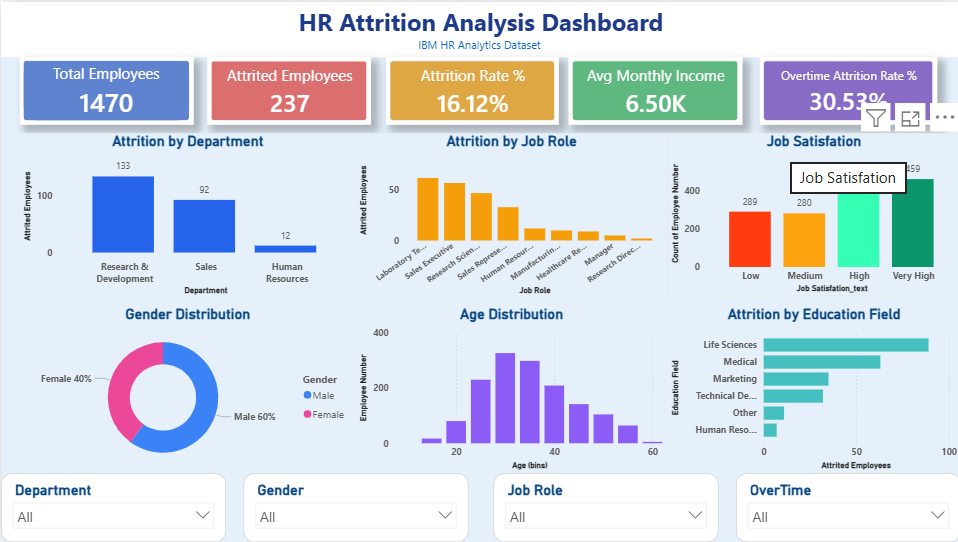

This screenshot's page, from the dashboard's own definition file:
{"tool":"powerbi","page":{"name":"HR_Attrition_Dashboard","canvas":[1280,720],"ordinal":0},"visuals":[{"type":"textbox","box":[0,0,1280,73.3],"z":0},{"type":"cardVisual","fields":{"Data":["HR-Employee-Attrition.Total Employees"]},"box":[25,73.3,231.7,90],"z":1000},{"type":"cardVisual","fields":{"Data":["HR-Employee-Attrition.Attrited Employees"]},"box":[275,73.3,218.3,90],"z":2000},{"type":"cardVisual","fields":{"Data":["HR-Employee-Attrition.Attrition Rate %"]},"box":[513.3,73.3,230,90],"z":3000},{"type":"cardVisual","fields":{"Data":["HR-Employee-Attrition.Avg Monthly Income"]},"box":[756.7,73.3,231.7,90],"z":4000},{"type":"cardVisual","fields":{"Data":["HR-Employee-Attrition.Overtime Attrition Rate %"]},"box":[1011.7,73.3,236.7,90],"z":5000},{"type":"columnChart","title":"Attrition by Department","fields":{"Category":["HR-Employee-Attrition.Department"],"Y":["HR-Employee-Attrition.Attrited Employees"]},"box":[25,175,448.3,220],"z":6000},{"type":"clusteredColumnChart","title":"Attrition by Job Role","fields":{"Category":["HR-Employee-Attrition.Job Role"],"Y":["HR-Employee-Attrition.Attrited Employees"]},"box":[473.3,175,415,220],"z":7000},{"type":"donutChart","title":"Gender Distribution","fields":{"Category":["HR-Employee-Attrition.Gender"],"Y":["CountNonNull(HR-Employee-Attrition.Employee Number)"]},"box":[25,405,448.3,223.3],"z":8000},{"type":"clusteredColumnChart","title":" Job Satisfation","fields":{"Y":["CountNonNull(HR-Employee-Attrition.Employee Number)"],"Category":["HR-Employee-Attrition.Job Satisfation_text"]},"box":[888.3,175,391.7,218.3],"z":9000},{"type":"clusteredColumnChart","title":"Age Distribution","fields":{"Category":["HR-Employee-Attrition.Age (bins)"],"Y":["CountNonNull(HR-Employee-Attrition.Employee Number)"]},"box":[473.3,405,415,223.3],"z":10000},{"type":"clusteredBarChart","title":"Attrition by Education Field","fields":{"Category":["HR-Employee-Attrition.Education Field"],"Y":["HR-Employee-Attrition.Attrited Employees"]},"box":[888.3,405,391.7,223.3],"z":11000},{"type":"slicer","fields":{"Values":["HR-Employee-Attrition.Department"]},"box":[0,628.3,300,91.7],"z":12000},{"type":"slicer","fields":{"Values":["HR-Employee-Attrition.Gender"]},"box":[323.3,628.3,300,91.7],"z":13000},{"type":"slicer","fields":{"Values":["HR-Employee-Attrition.Job Role"]},"box":[656.7,628.3,300,91.7],"z":14000},{"type":"slicer","fields":{"Values":["HR-Employee-Attrition.OverTime"]},"box":[980,628.3,300,91.7],"z":15000}]}

Visuals, with their boxes in screenshot pixels (x1, y1, x2, y2), scaled from the page's 1280x720 canvas onto the 958x542 screenshot:
textbox: region(0, 0, 957, 55)
cardVisual - HR-Employee-Attrition.Total Employees: region(19, 55, 192, 123)
cardVisual - HR-Employee-Attrition.Attrited Employees: region(206, 55, 369, 123)
cardVisual - HR-Employee-Attrition.Attrition Rate %: region(384, 55, 556, 123)
cardVisual - HR-Employee-Attrition.Avg Monthly Income: region(566, 55, 740, 123)
cardVisual - HR-Employee-Attrition.Overtime Attrition Rate %: region(757, 55, 934, 123)
"Attrition by Department" columnChart: region(19, 132, 354, 297)
"Attrition by Job Role" clusteredColumnChart: region(354, 132, 665, 297)
"Gender Distribution" donutChart: region(19, 305, 354, 473)
" Job Satisfation" clusteredColumnChart: region(665, 132, 957, 296)
"Age Distribution" clusteredColumnChart: region(354, 305, 665, 473)
"Attrition by Education Field" clusteredBarChart: region(665, 305, 957, 473)
slicer - HR-Employee-Attrition.Department: region(0, 473, 225, 541)
slicer - HR-Employee-Attrition.Gender: region(242, 473, 467, 541)
slicer - HR-Employee-Attrition.Job Role: region(491, 473, 716, 541)
slicer - HR-Employee-Attrition.OverTime: region(733, 473, 957, 541)
